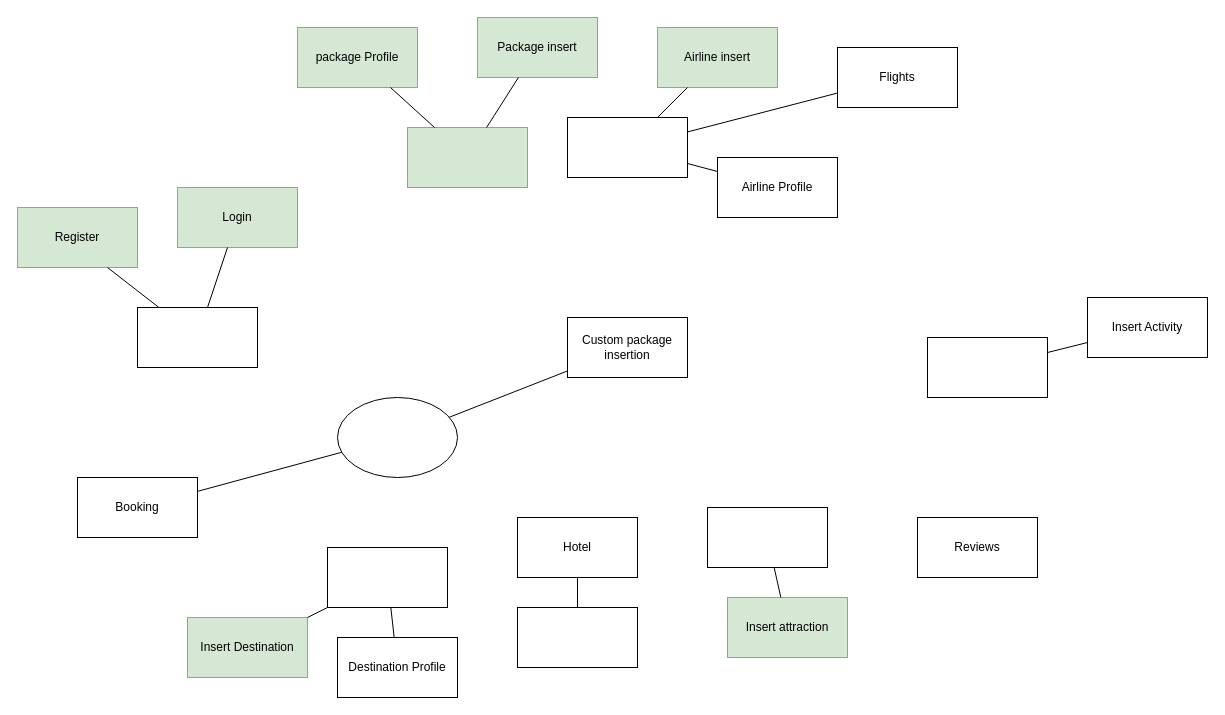
The diagram is 1225 pixels wide and 715 high, and some of its shapes have lost their labels. Here are the shapes that lost their labels. From the top down, the centre of each, then its label:
(467,157): Travel-package
(627,147): Airline
(197,337): Homepage
(987,367): Activities
(397,437): JANI NA
(767,537): Attractions
(387,577): Destination
(577,637): Insert Hotel
